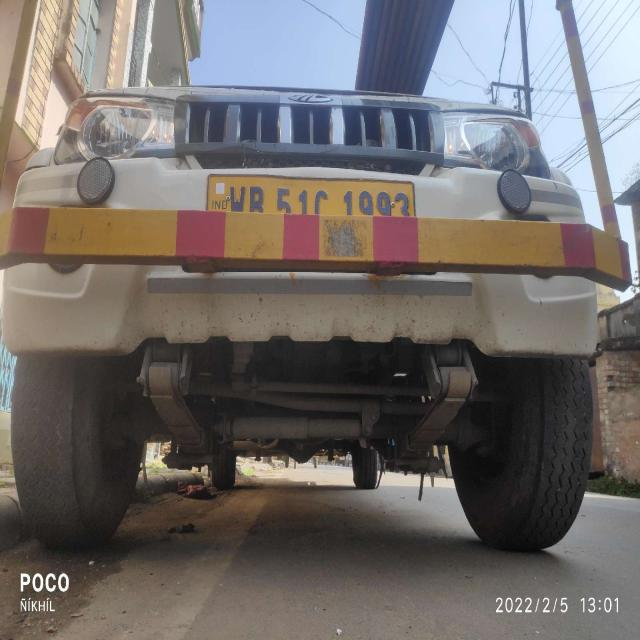light_vehicle: (3, 86, 616, 483)
